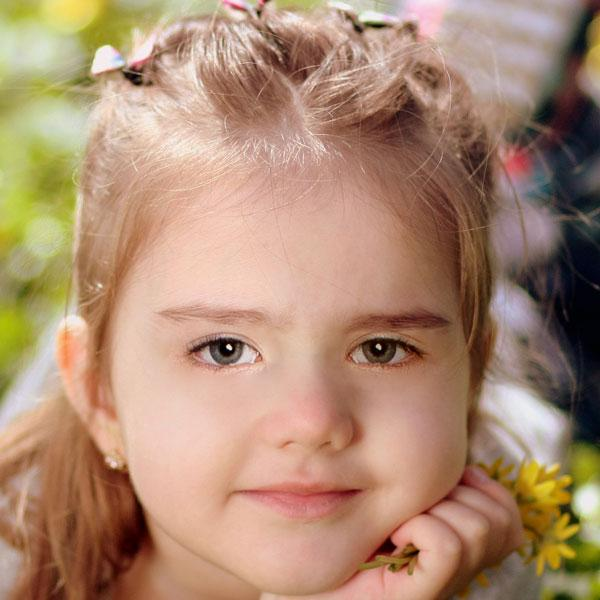Eyes: (171, 321, 272, 385), (331, 324, 426, 381)
